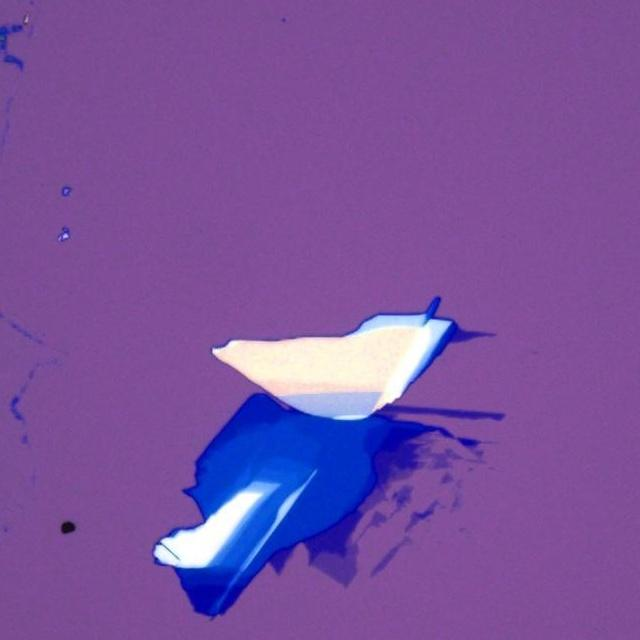monolayer-eWW4: (310, 540, 361, 588)
